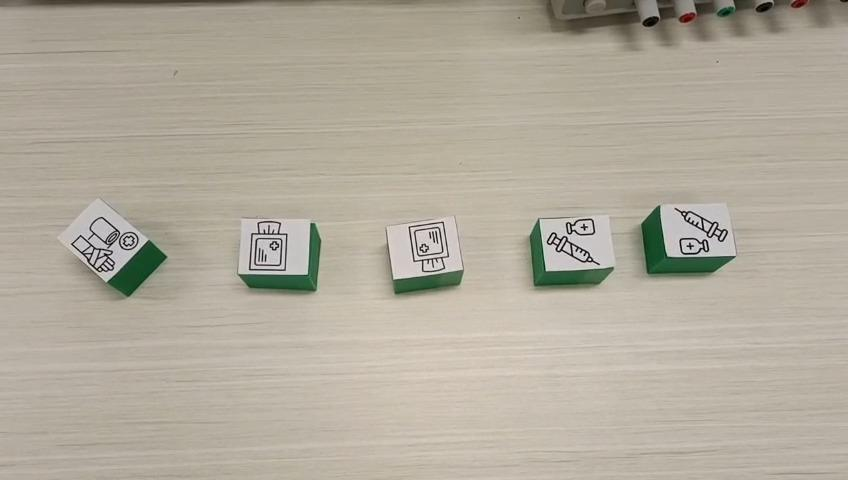Bandages: (54, 196, 168, 296)
Gauze: (383, 215, 465, 294), (236, 217, 321, 292)
antiseptic cream: (639, 201, 738, 273), (528, 213, 615, 285)
